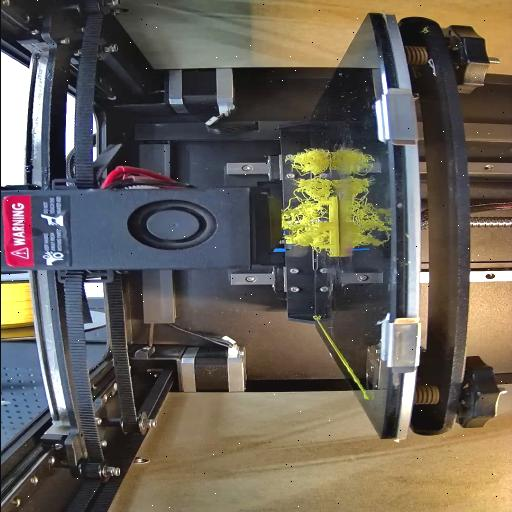spaghetti: (279, 150, 324, 252)
